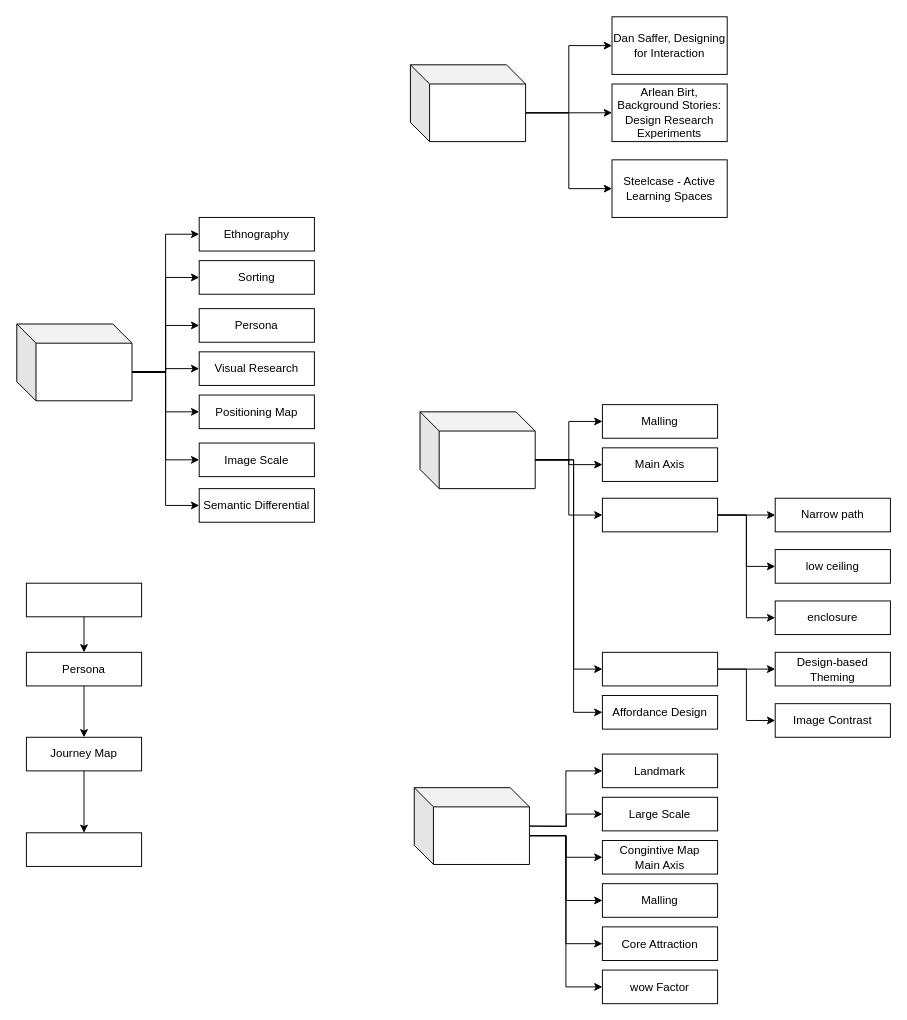
This 907x1020 diagram has some shape labels left out. The shapes that lost their labels are listed below. From the top down, each one's box as (x1, y1, x2, y2) in pixels, then its label:
(409, 64, 526, 142): User Experience Design
(16, 323, 132, 401): Design Research Methods
(419, 411, 535, 489): Space Design Plan
(601, 497, 718, 532): visual perception
(25, 582, 142, 617): Desk Research
(601, 651, 718, 686): Concept Line
(413, 787, 529, 864): Space Design
(25, 832, 142, 866): Field Research
